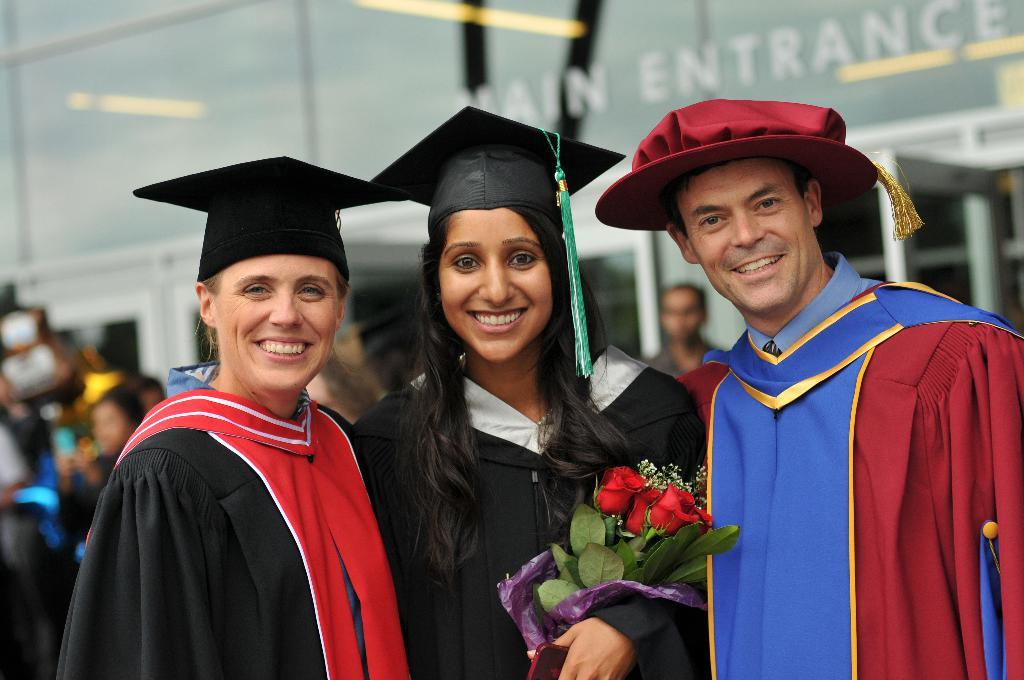Hat: (589, 98, 920, 234), (128, 154, 399, 278), (368, 106, 628, 214)
